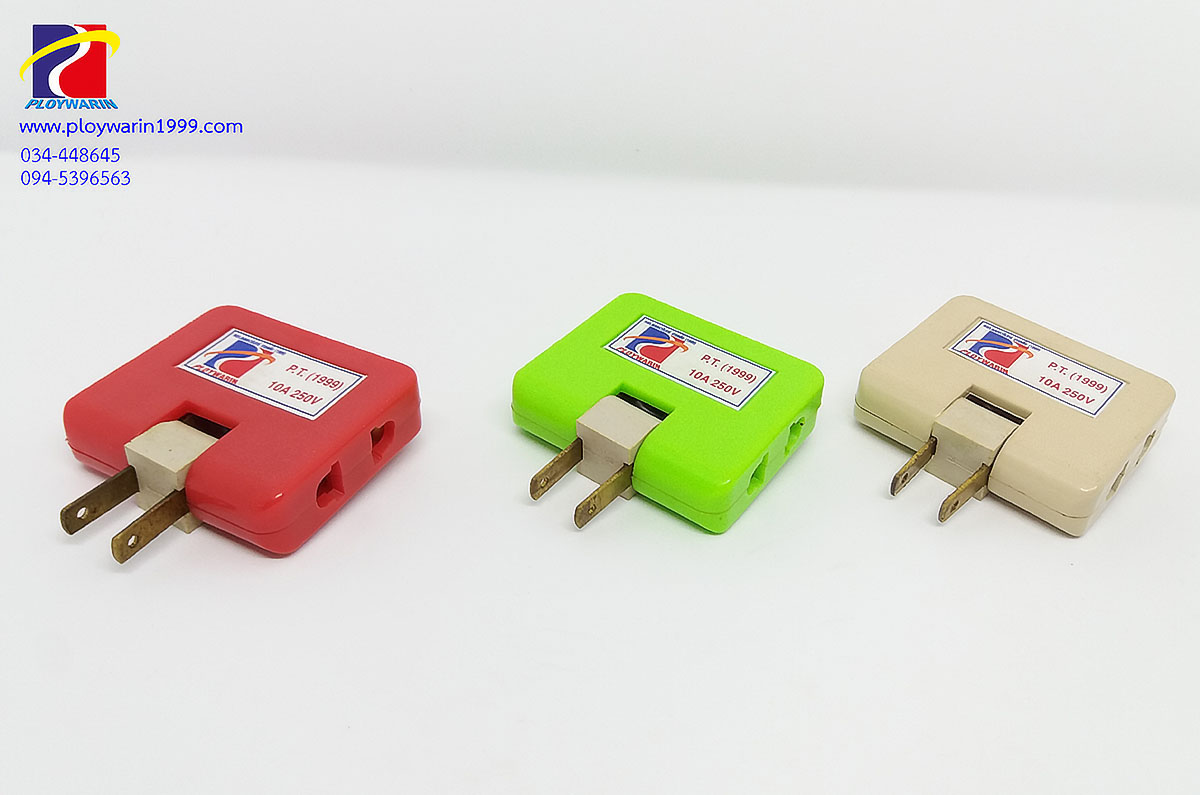Three_eye_plug: (52, 296, 435, 575), (497, 286, 838, 552), (848, 291, 1184, 549)
